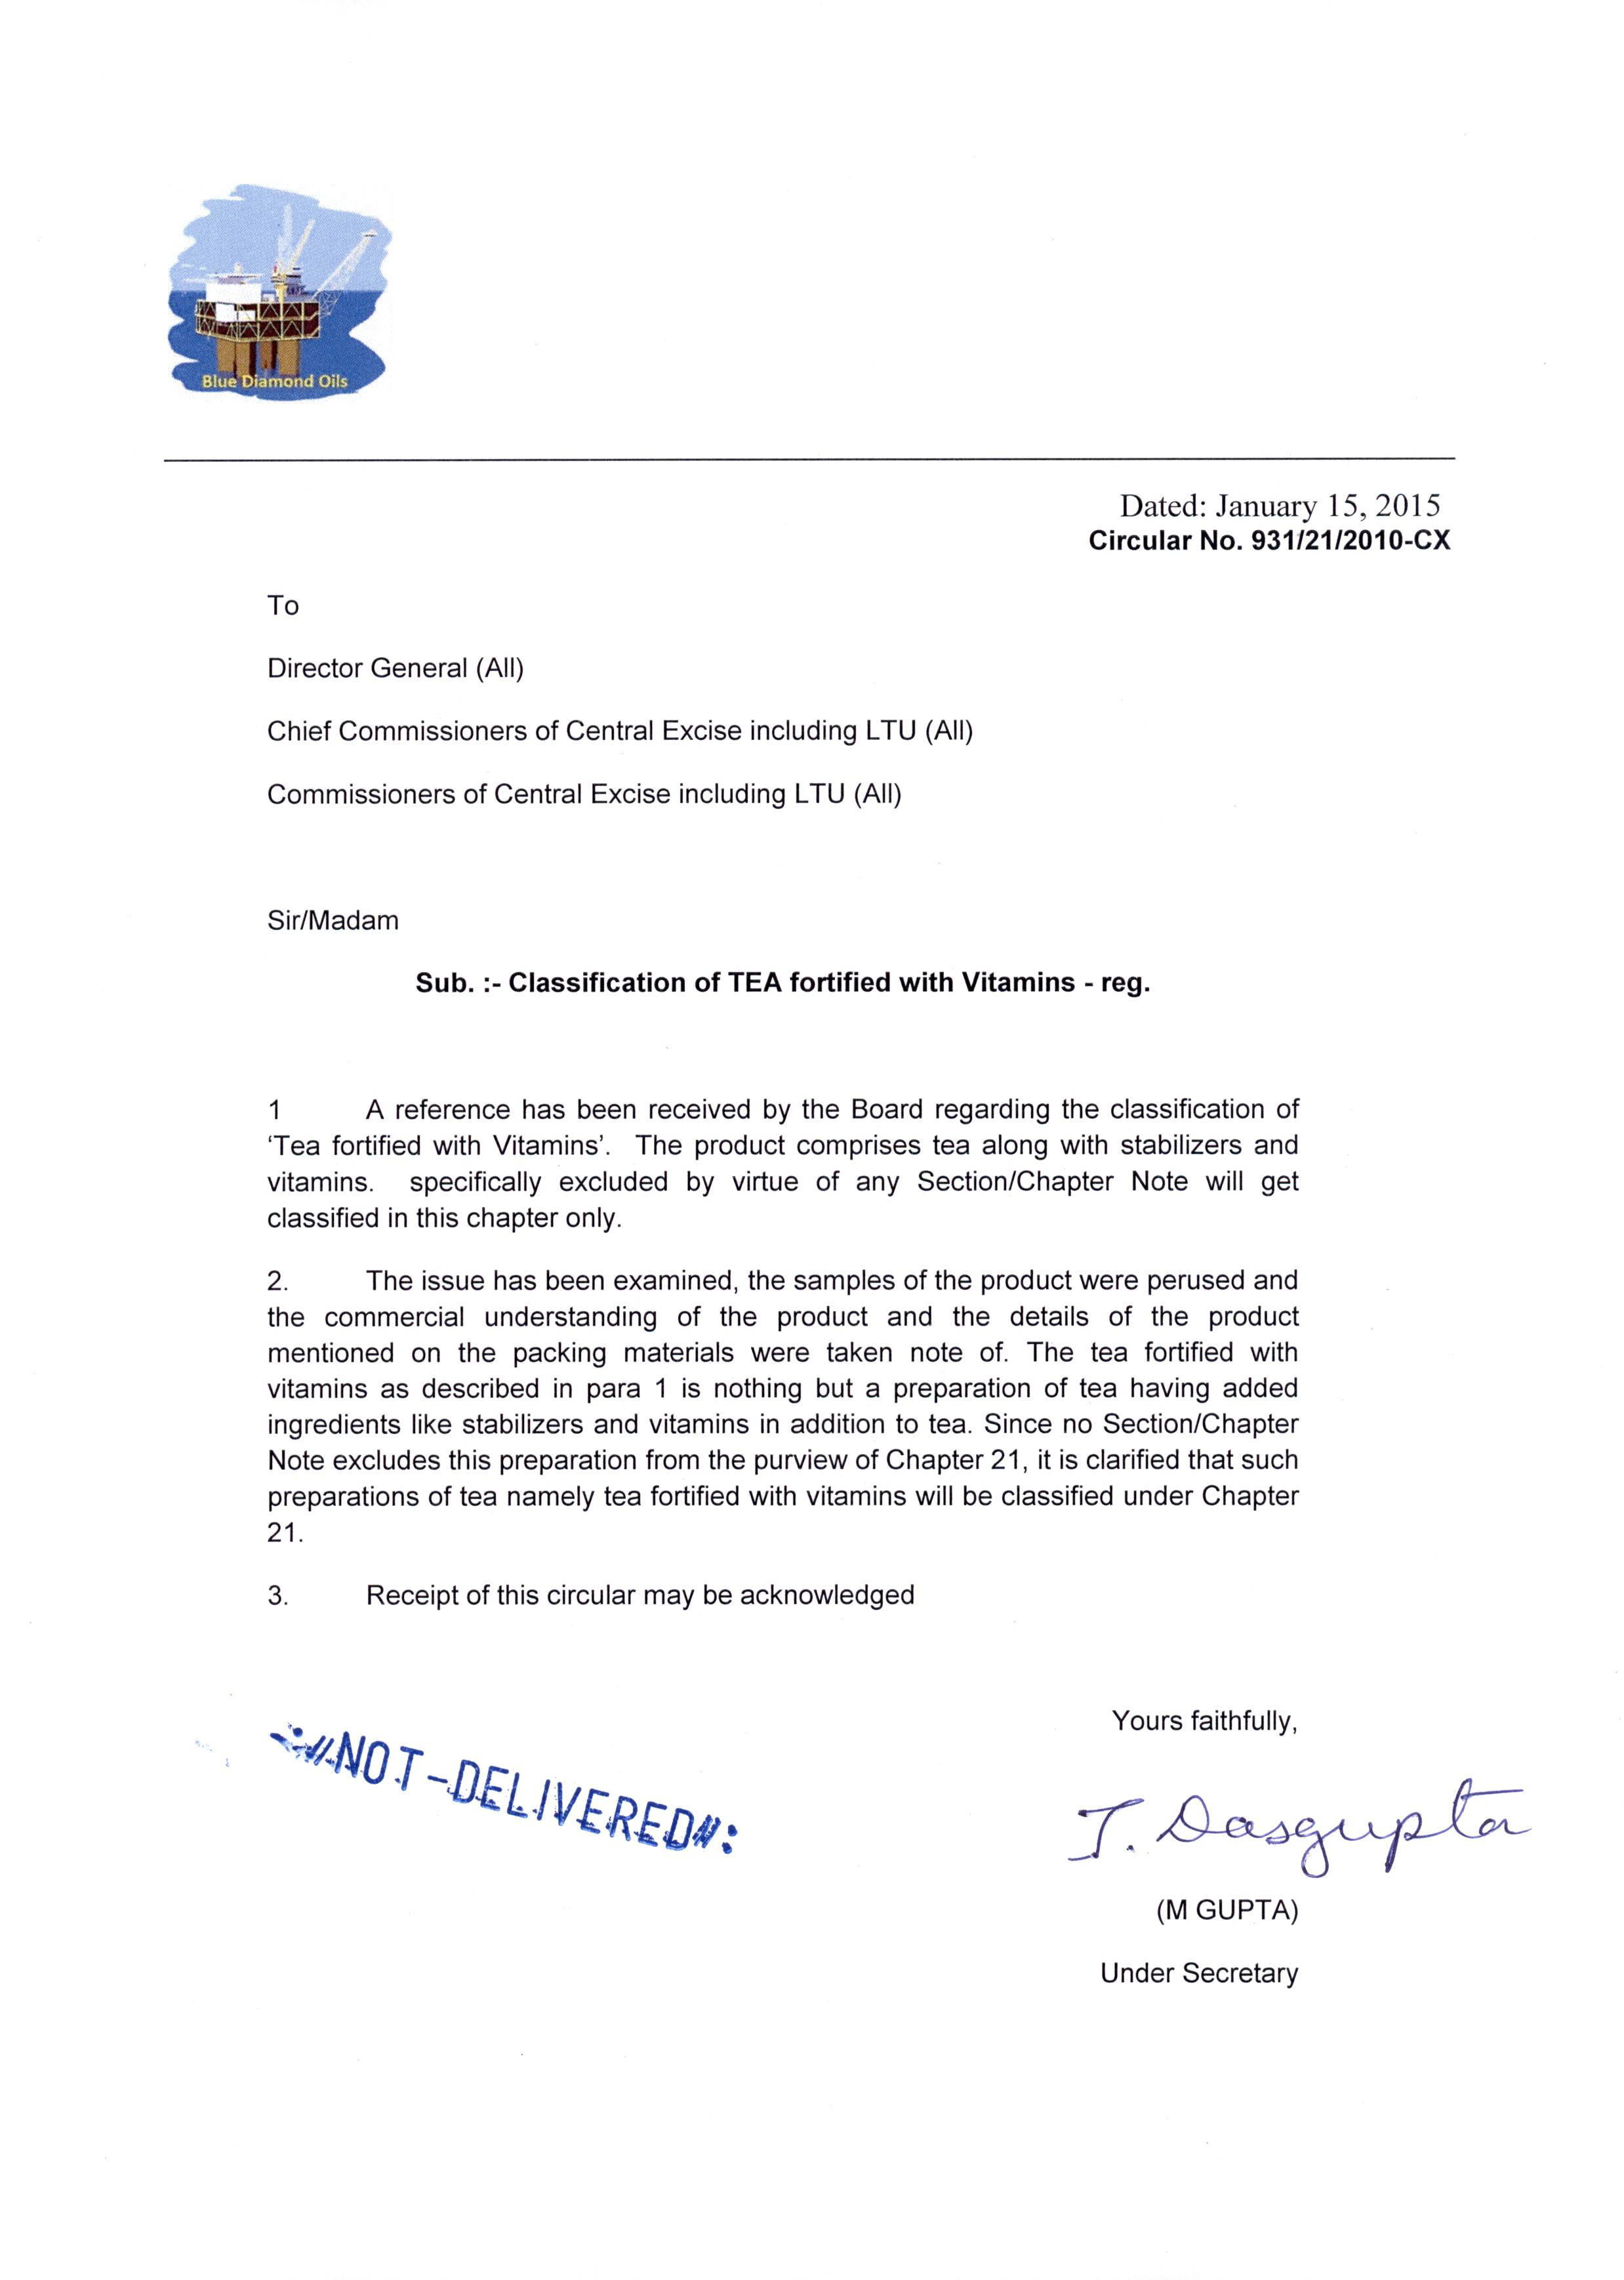Signature: (1056, 1760, 1547, 1886)
